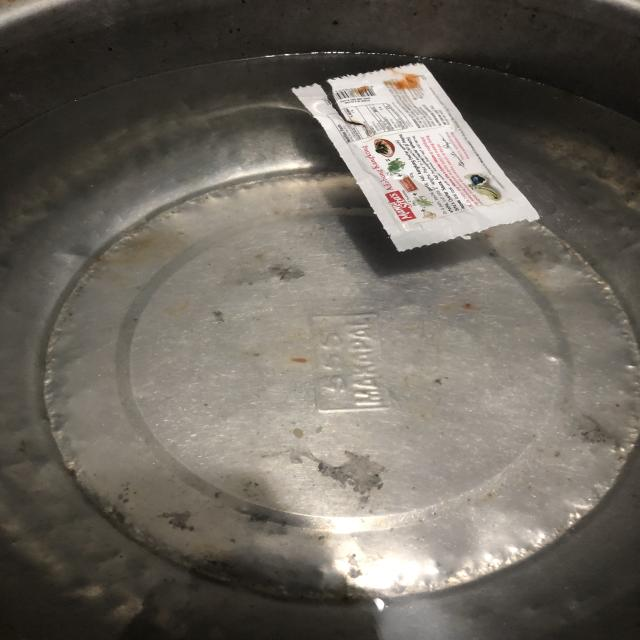Plastic Wrapper: (265, 38, 565, 267)
